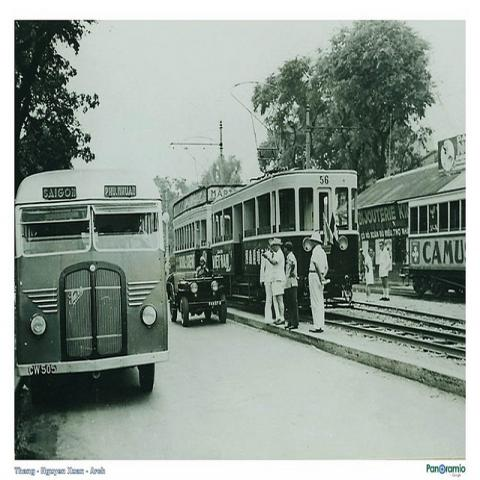bus: (17, 171, 168, 396)
car: (166, 269, 227, 327)
